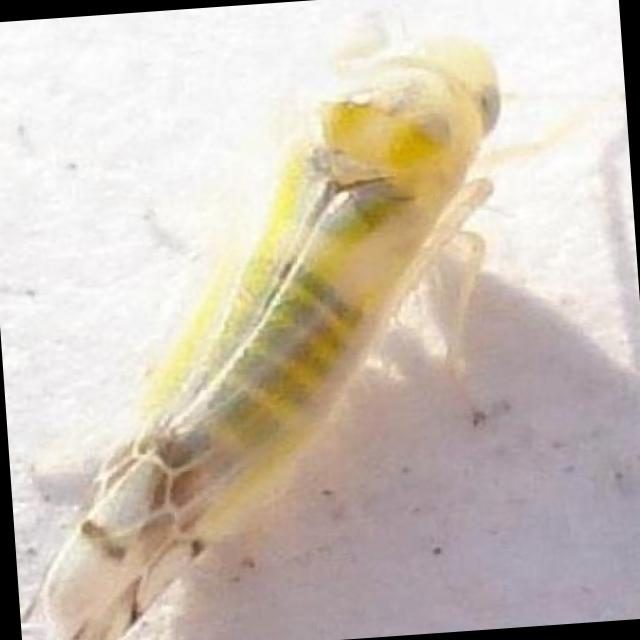green-leafhopper: (36, 11, 609, 640)
